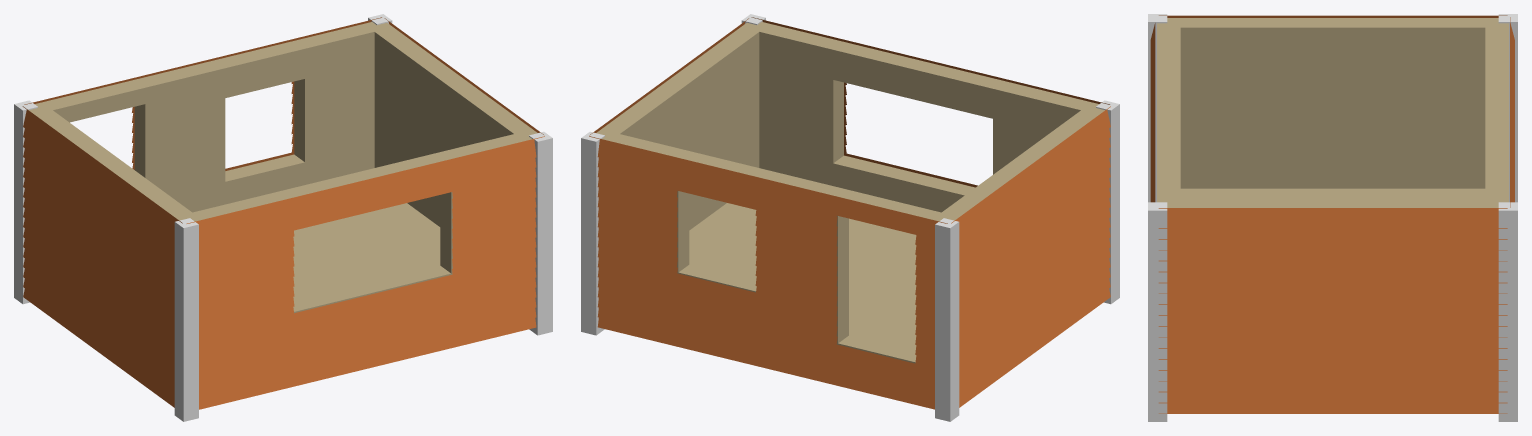
Rendered from house1.fbx.
The picture shows the model from 3 angles, left to right: view 1: azimuth 30°, elevation 25°; view 2: azimuth 150°, elevation 25°; view 3: azimuth 270°, elevation 25°; orthographic projection. The views are drawn at different scales.
Visible parts, largest first — view 1: Cube.006; view 2: Cube.006; view 3: Cube.006.
Part boxes in pixels (x1,y1,x2,y2): Cube.006: (14, 14, 552, 421); Cube.006: (581, 14, 1119, 421); Cube.006: (1148, 14, 1517, 421).
Size of the model in its own units: 925 by 465 by 736.
